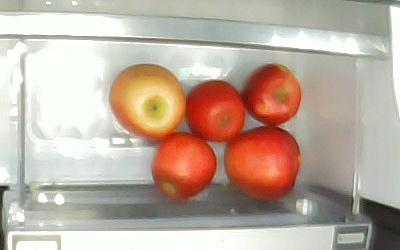apple: (108, 64, 185, 142), (223, 127, 301, 203), (151, 132, 216, 201), (186, 81, 246, 143), (242, 63, 301, 126)
